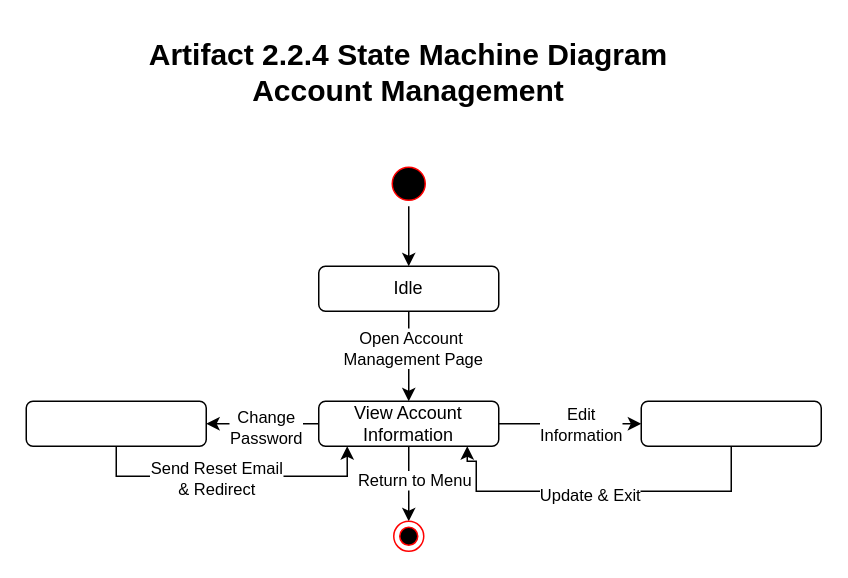
The diagram is 848 pixels wide and 578 high, and some of its shapes have lost their labels. Here are the shapes that lost their labels. From the top down, the centre of each, then its label:
At (115,423): "Trigger Account Resetting Process".
At (730,423): "Information in Edit Mode".
